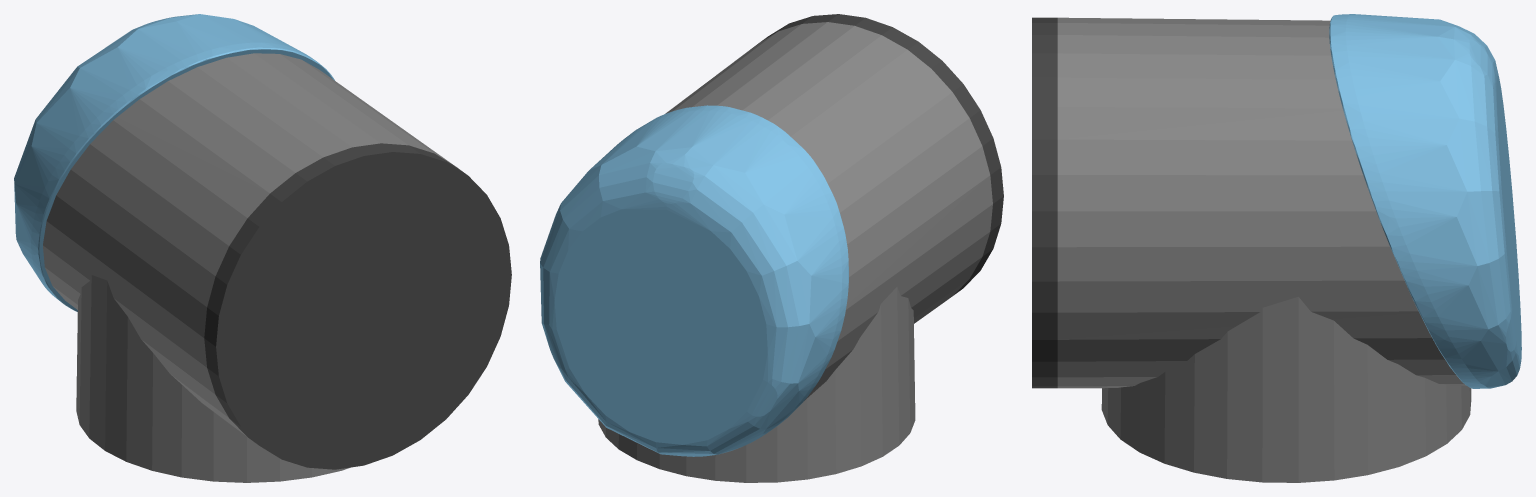
3 views of the same model, side by side, from view 1: azimuth 30°, elevation 25°; view 2: azimuth 150°, elevation 25°; view 3: azimuth 270°, elevation 25° (orthographic). The views are drawn at different scales.
Parts seen in each view (by area): view 1: Node_0000017FEC311630 (×3); view 2: Node_0000017FEC311630 (×3); view 3: Node_0000017FEC311630 (×3).
Part boxes in pixels (x1,y1,x2,y2): Node_0000017FEC311630 (×3): [14, 14, 511, 482]; Node_0000017FEC311630 (×3): [540, 14, 1003, 482]; Node_0000017FEC311630 (×3): [1032, 14, 1521, 482].
Bounding box in the file's own units: 0.091 × 0.0998 × 0.1188.
